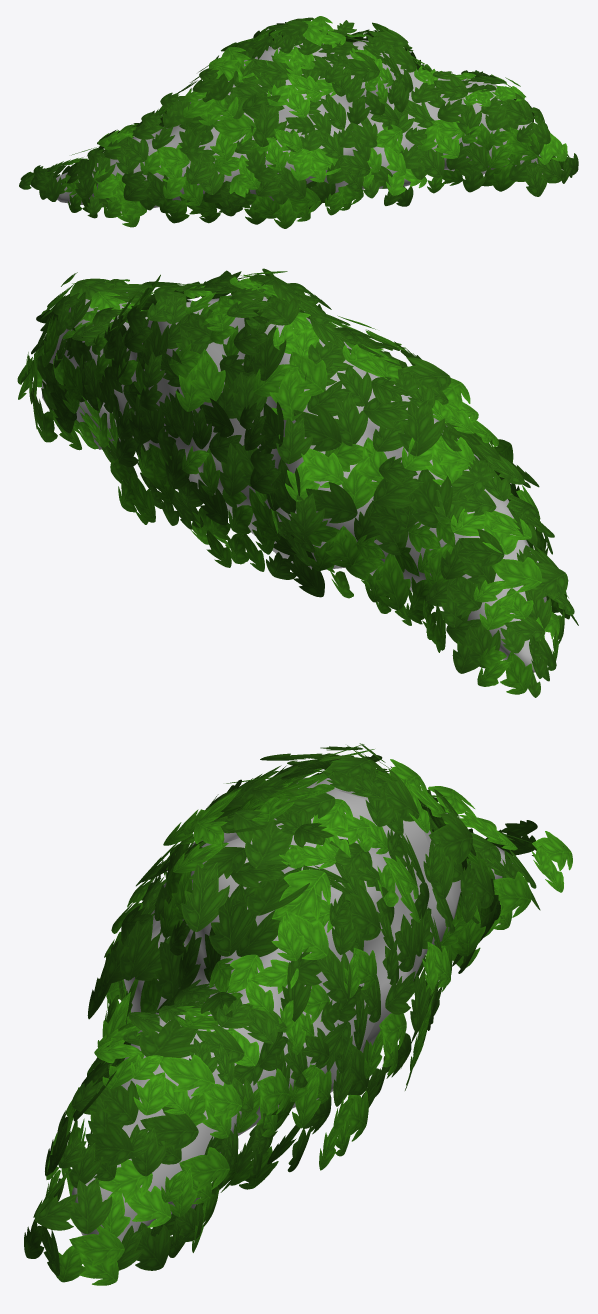
File: SM_Bush.fbx
The picture shows the model from 3 angles, top to bottom: view 1: azimuth 30°, elevation 25°; view 2: azimuth 150°, elevation 25°; view 3: azimuth 270°, elevation 25°; orthographic projection. The views are drawn at different scales.
Parts seen in each view (by area): view 1: SM_Leaves, SM_frond_02_LP3; view 2: SM_Leaves, SM_frond_02_LP3; view 3: SM_Leaves, SM_frond_02_LP3.
Part boxes in pixels (<box>): SM_Leaves: <box>19,16,578,228</box>; SM_frond_02_LP3: <box>56,40,542,212</box>; SM_Leaves: <box>17,268,578,697</box>; SM_frond_02_LP3: <box>42,294,546,672</box>; SM_Leaves: <box>24,743,572,1285</box>; SM_frond_02_LP3: <box>71,777,505,1242</box>.
Bounding box in the file's own units: 649 × 243 × 357.
